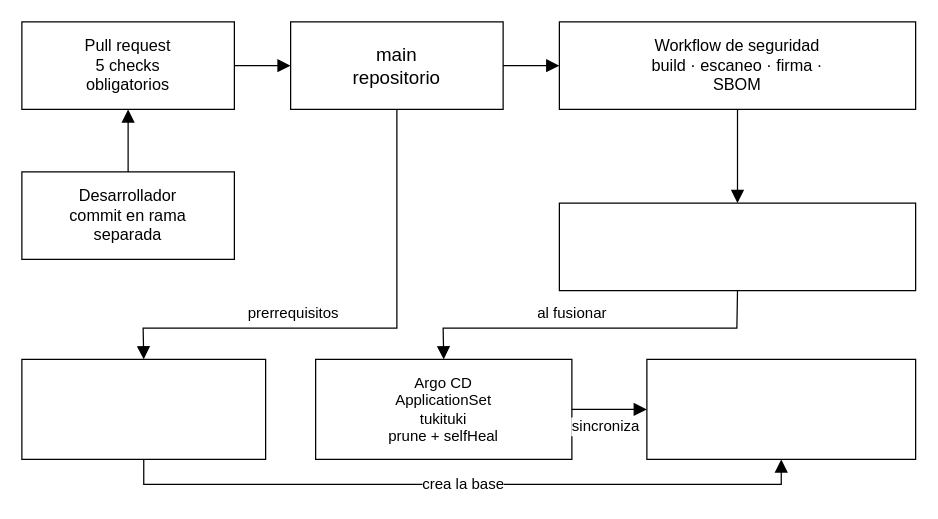
The diagram is 938 pixels wide and 519 high, and some of its shapes have lost their labels. Here are the shapes that lost their labels. From the top down, the box of each, then its label:
(558, 202, 916, 291): PR de digests gitops/digests
(21, 358, 266, 459): OpenTofu namespace · cuota · límites protección de rama
(646, 358, 916, 459): Clúster aplicación sincronizada
